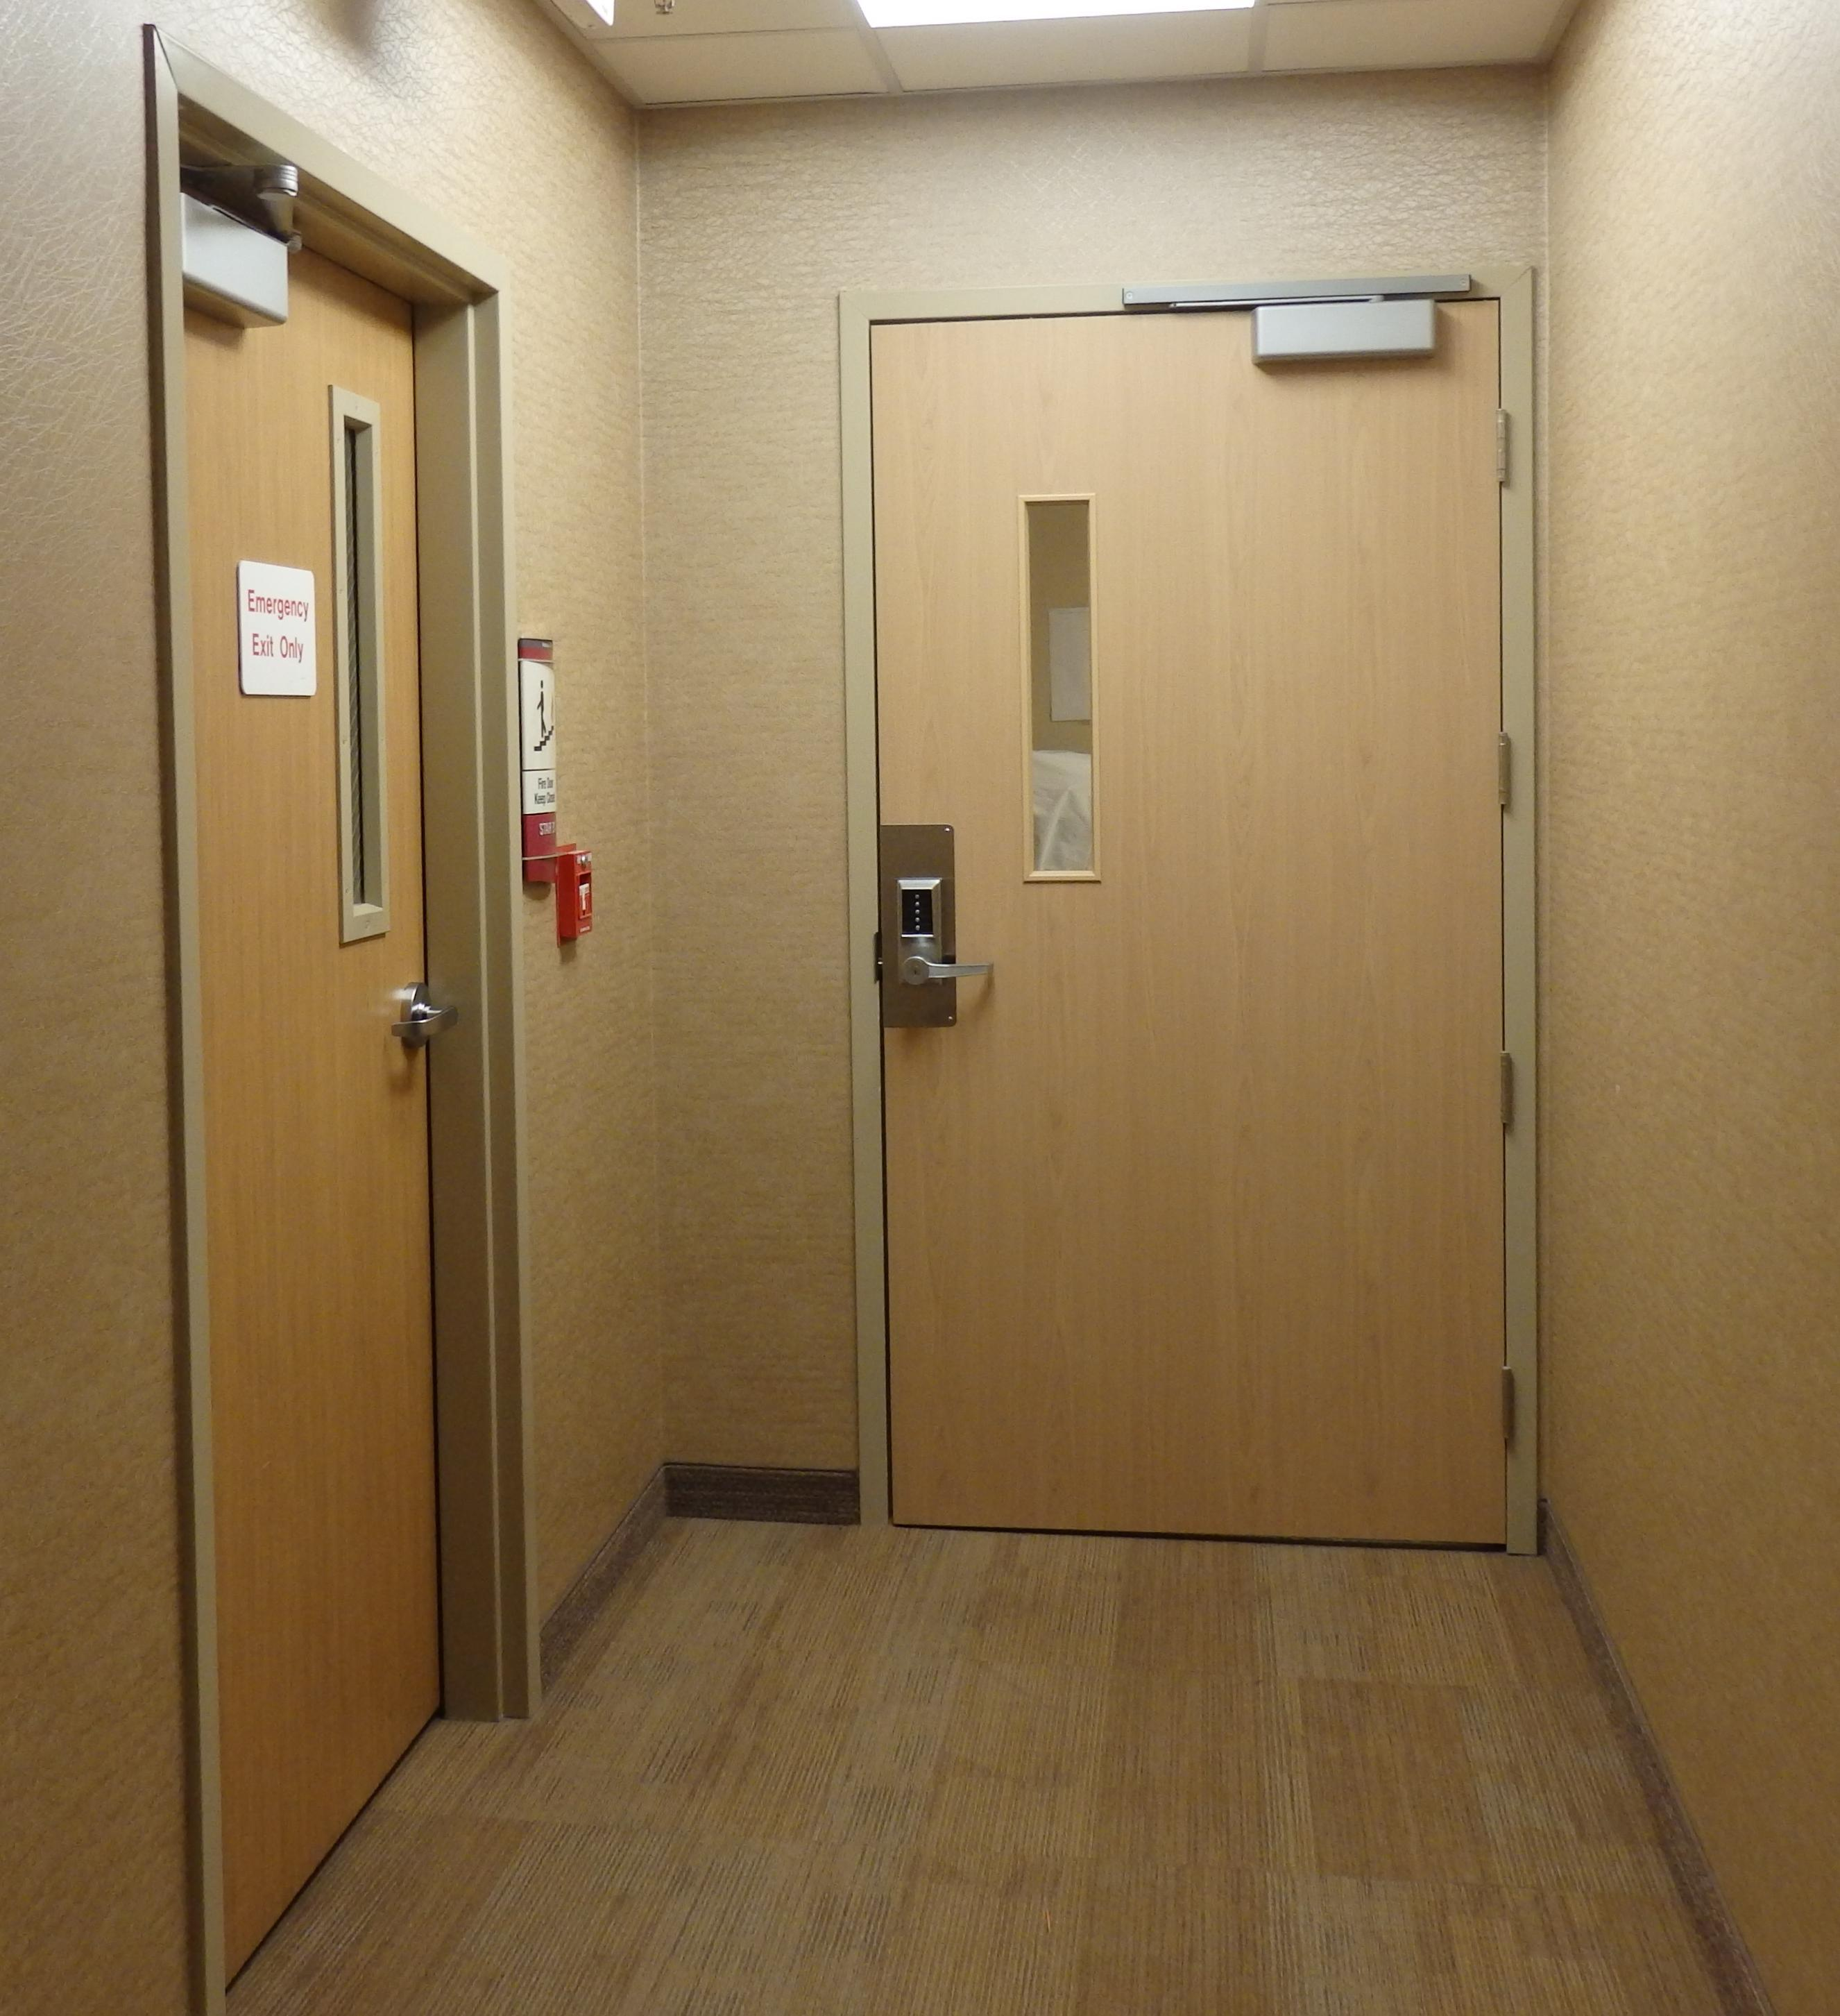door: (837, 295, 1549, 1558), (137, 35, 511, 1990)
